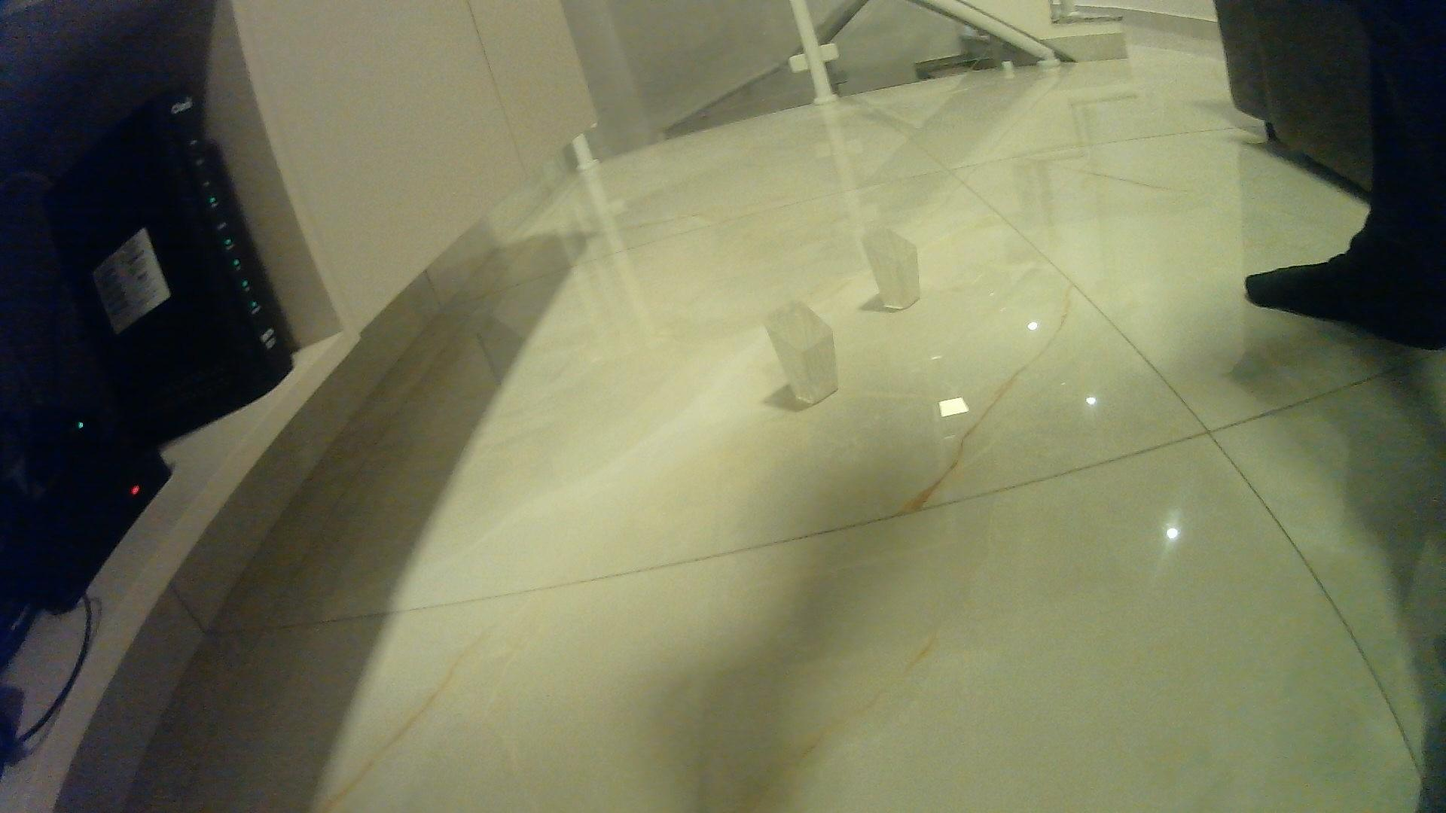erva_daninha: (753, 295, 847, 411), (856, 223, 926, 315)
